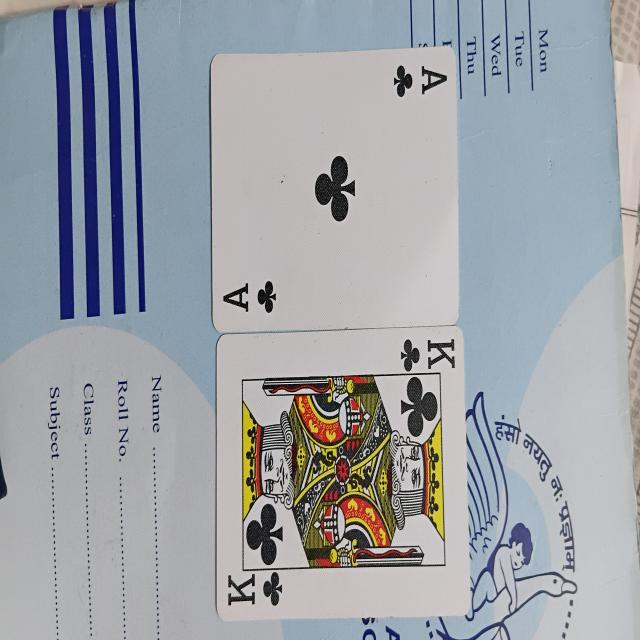AC: (210, 46, 460, 330)
KC: (216, 328, 464, 618)
